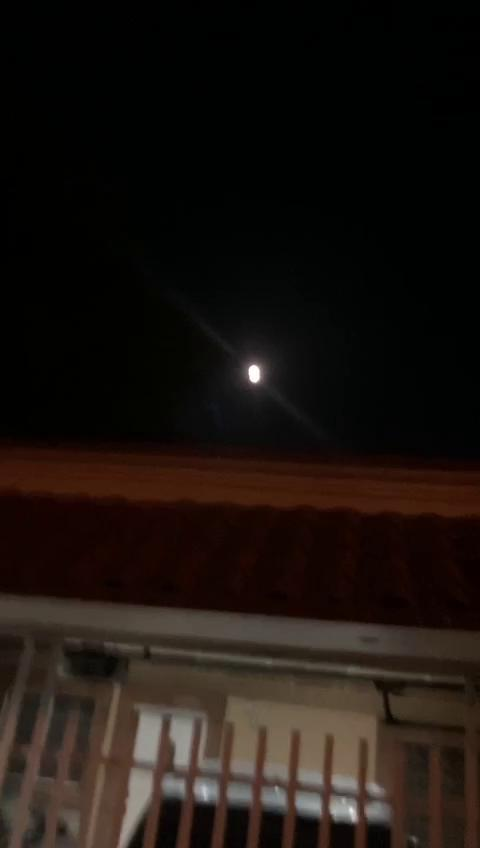moon: (234, 350, 269, 388)
